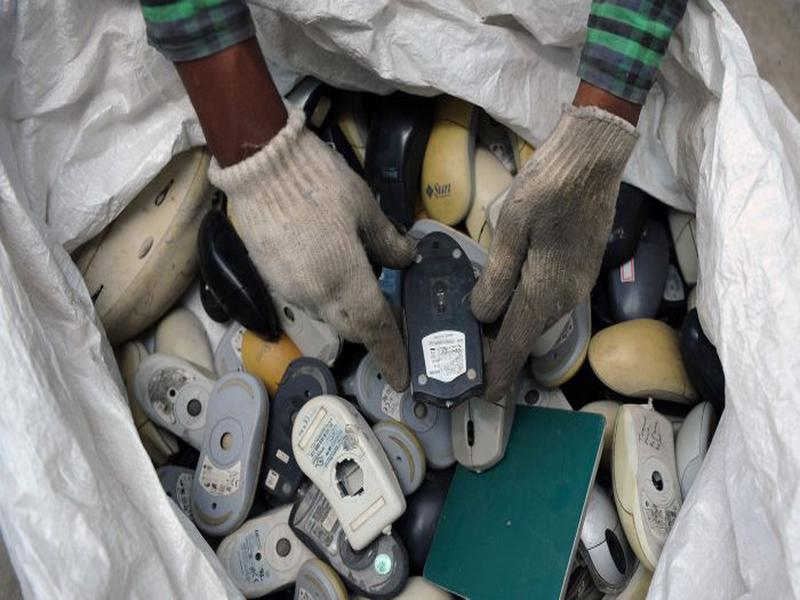mouse: (284, 392, 418, 553), (398, 224, 496, 405), (608, 402, 701, 576), (187, 368, 269, 542), (422, 104, 496, 227)
